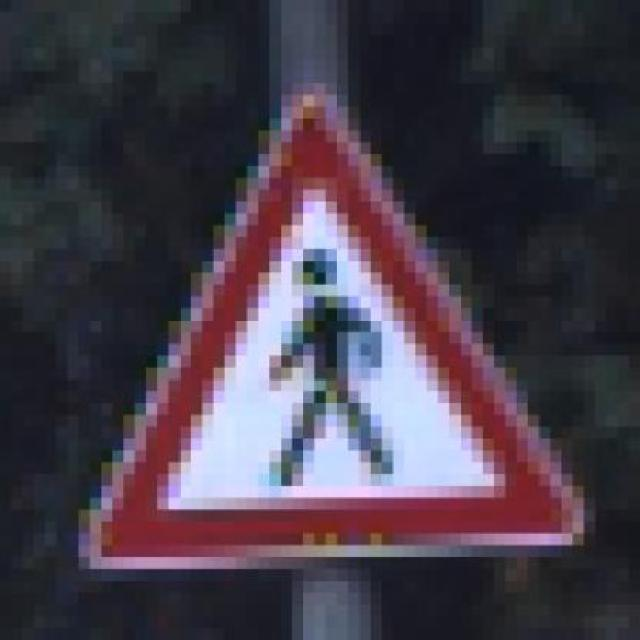Pedestrian Crossing: (71, 66, 588, 588)
